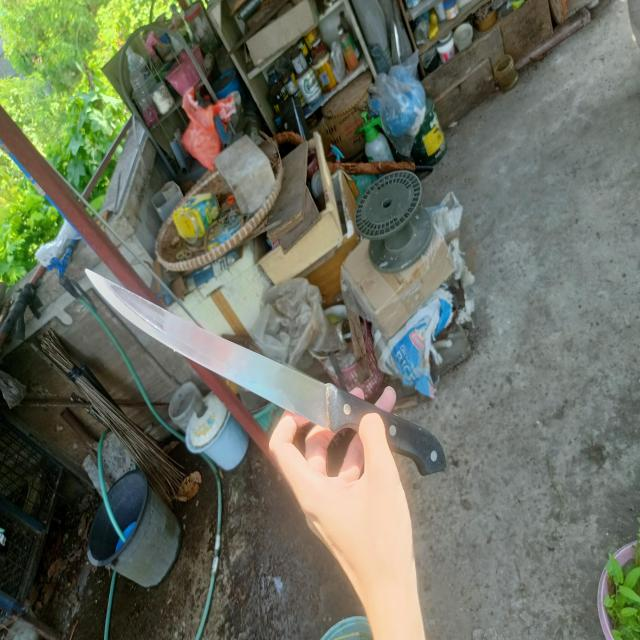knife: (85, 270, 448, 475)
